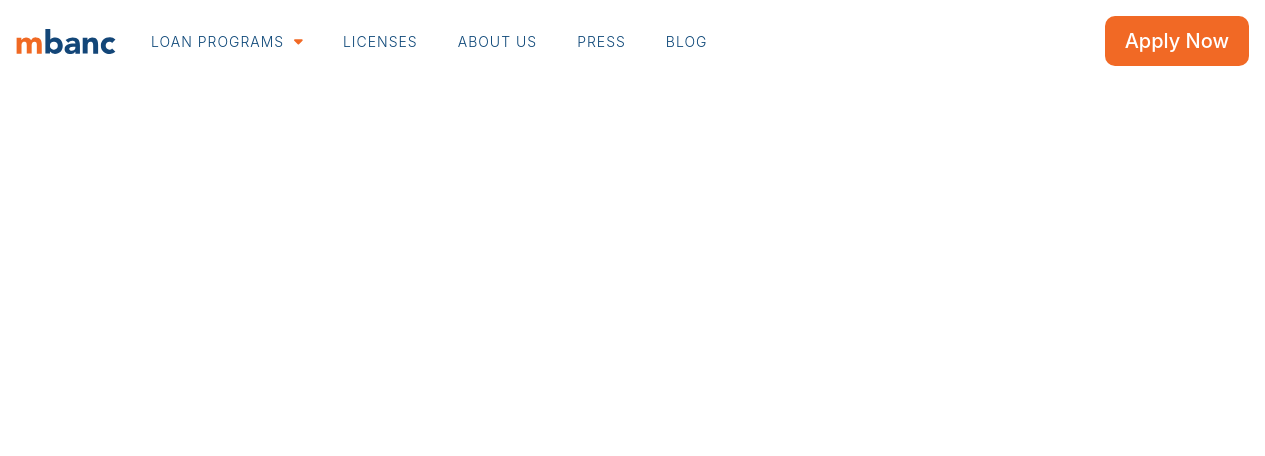
Test case: Navigation Component › click dropdown activator
# Find and click on the dropdown activator
Click the element with test id "dropdown-activator": [227, 41] box [151, 30, 303, 52]
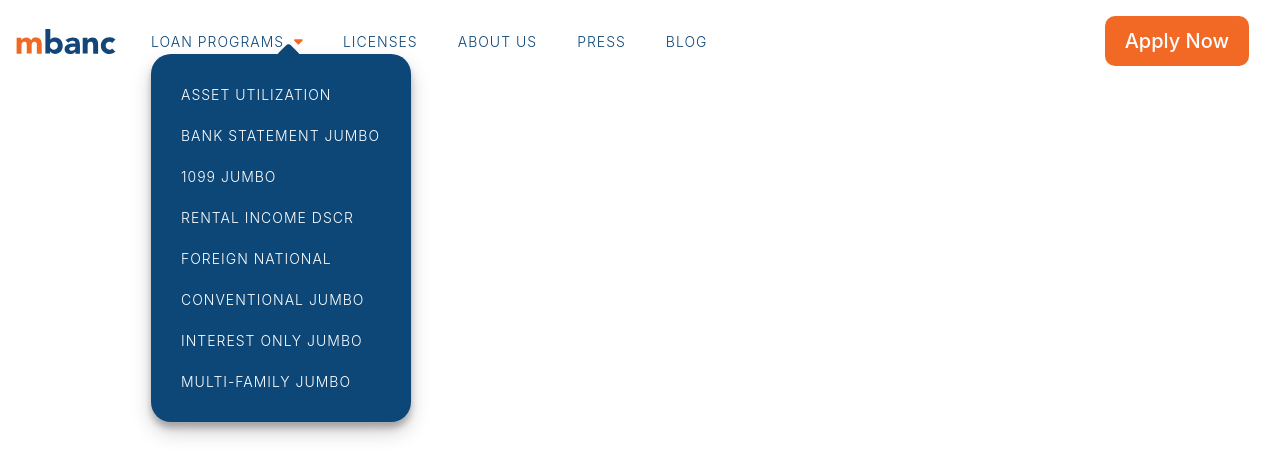
Expected: the element with test id "dropdown-body" is shown, [151, 54, 411, 422]
